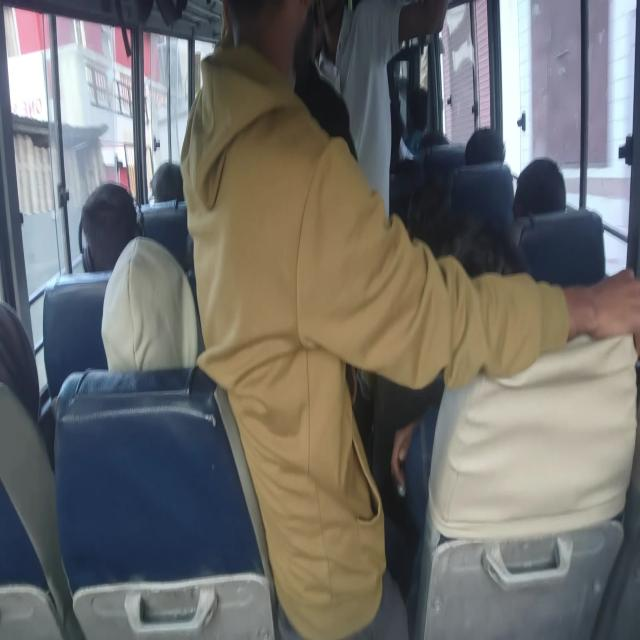person: (179, 0, 639, 638), (423, 219, 638, 543), (333, 0, 449, 219), (78, 181, 138, 274), (150, 161, 184, 203)
